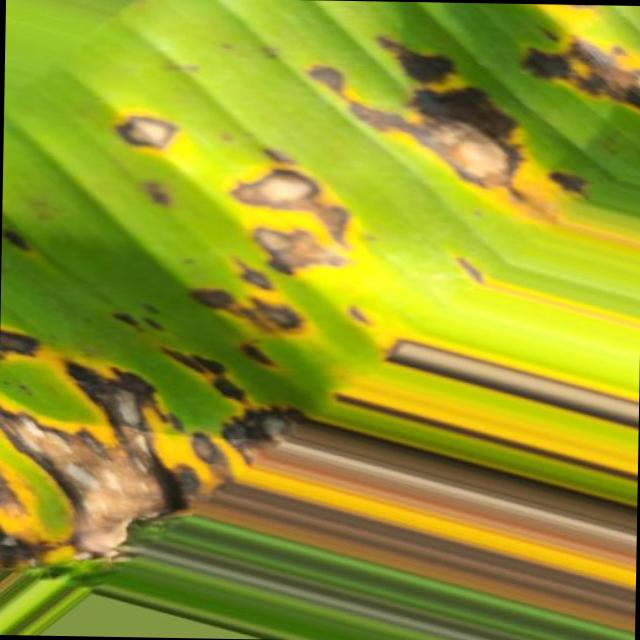Banana_Yellow_Sigatoka: (5, 305, 318, 605), (320, 22, 640, 217), (212, 156, 360, 350)
